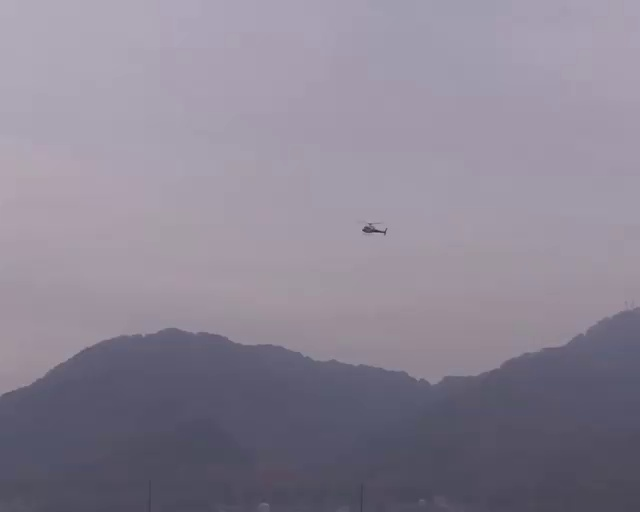HELICOPTER: (361, 221, 388, 235)
